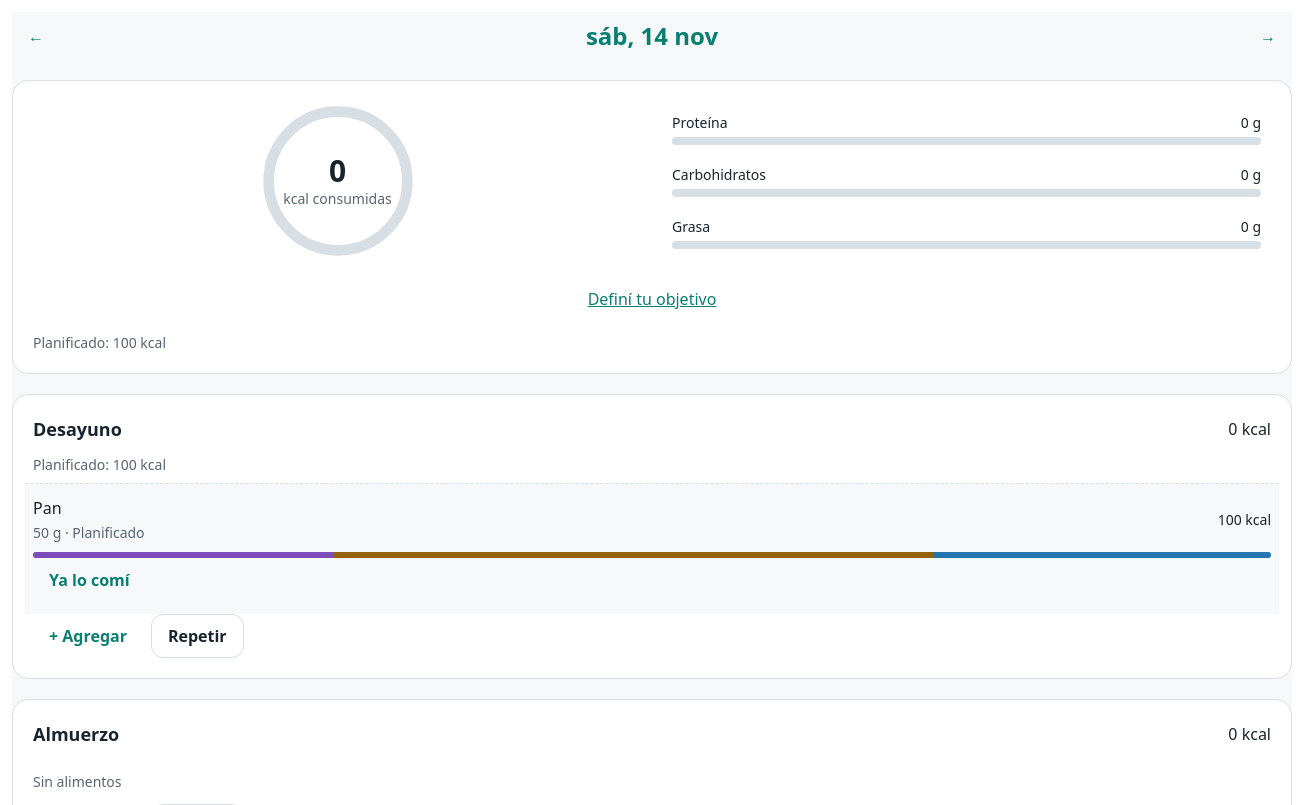
revierte eat optimista cuando falla la API y muestra aviso
Expected: the text "Pan" is shown, [33,497,62,519]
Click the button "Ya lo comí": (89, 580) [33,558,146,602]
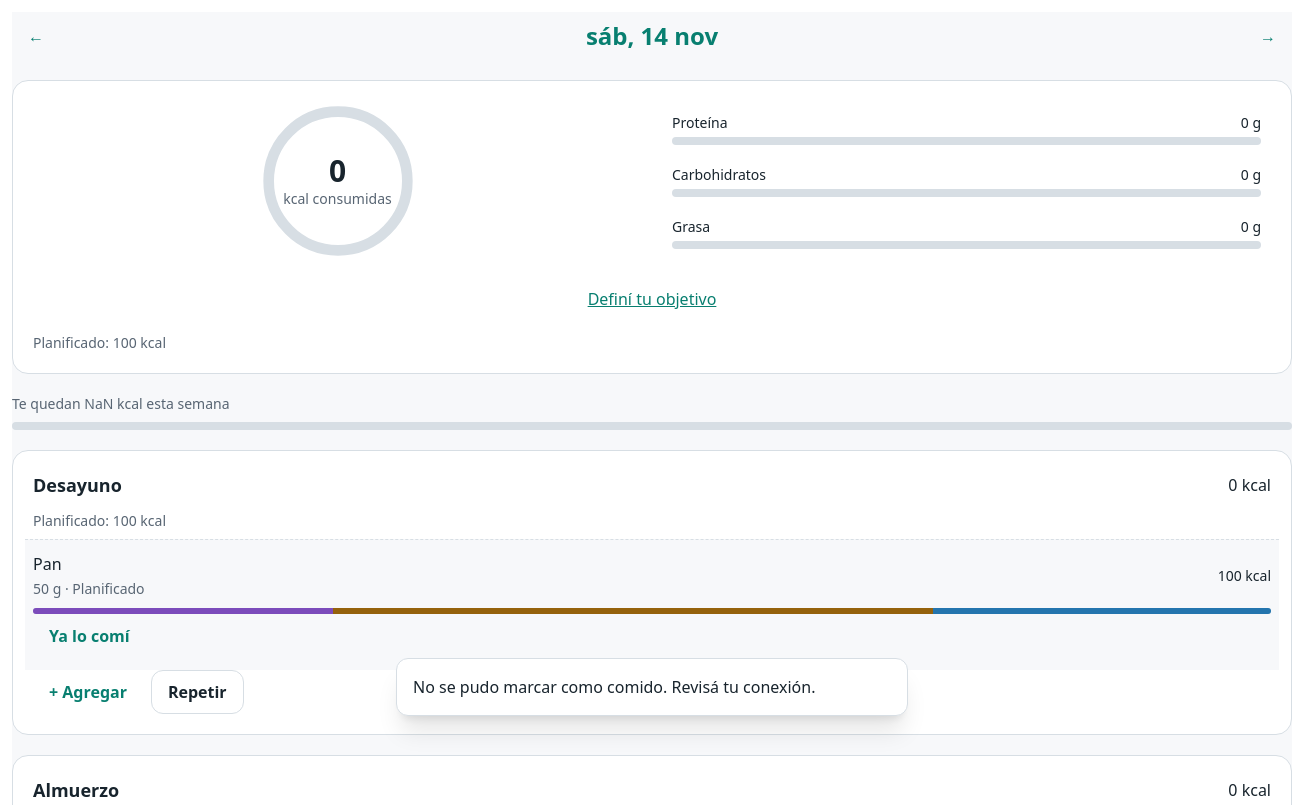
Expected: the button "Ya lo comí" is shown, [33,614,146,658]
Expected: the text "No se pudo marcar como comido. Revisá tu conexión." is shown, [413,676,815,698]
